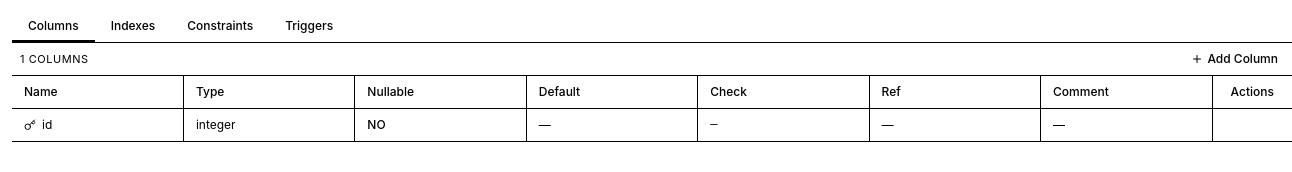
Test case: StructurePanel first-render flash gate (sprint-176) › [AC-176-03] tab switch: 'No indexes found' is hidden until indexes fetch settles
Press the mouse on the tab "Indexes" at (133, 27), box [95, 12, 171, 42]
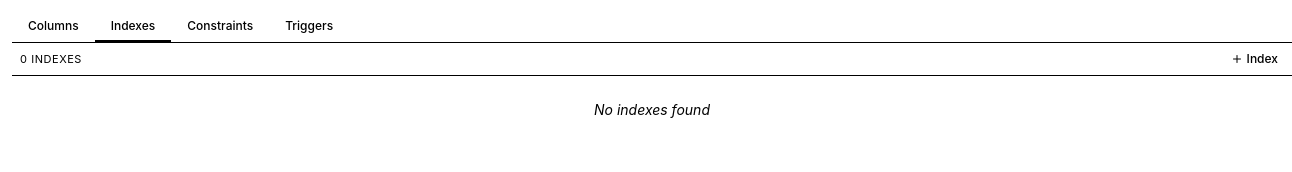
Now the text "No indexes found" is shown, box [594, 101, 710, 118]
